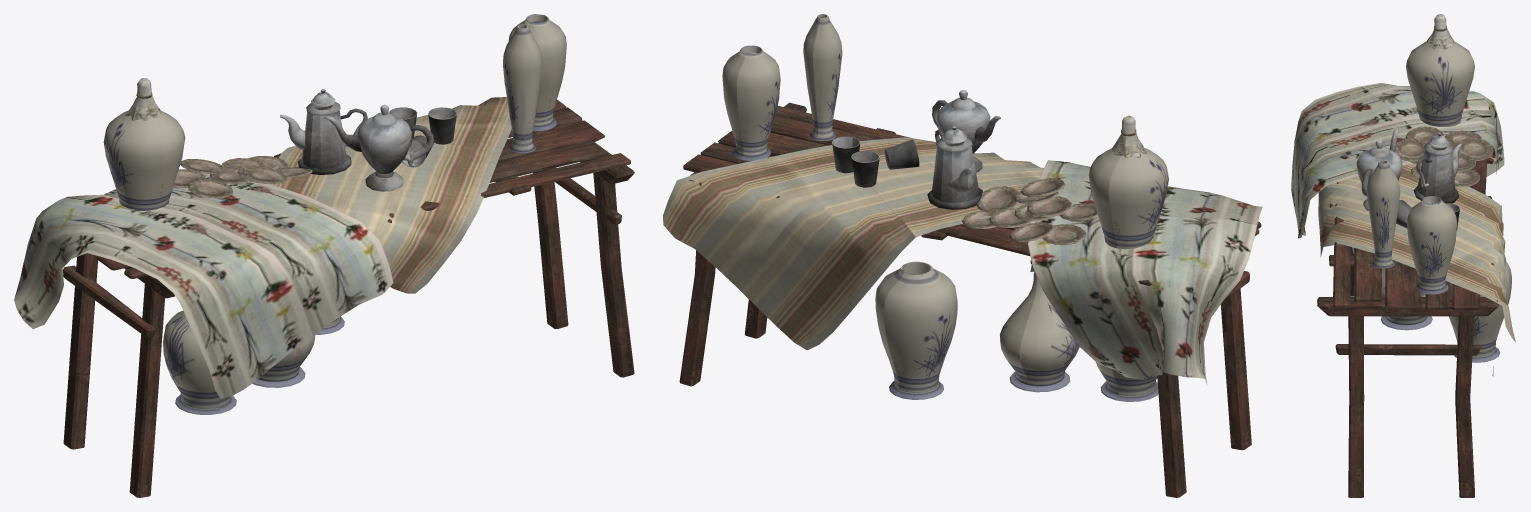
Rendered from TW2_9_ADDONS_04_3-transformed.glb.
3 renders of one model, left to right at view 1: azimuth 30°, elevation 25°; view 2: azimuth 150°, elevation 25°; view 3: azimuth 270°, elevation 25°, orthographic. The views are drawn at different scales.
Parts seen in each view (by area): view 1: default; view 2: default; view 3: default.
Boxes of the visible parts, box(x1,y1,x2,y2) form: default: box(14, 14, 634, 497); default: box(663, 14, 1262, 497); default: box(1291, 14, 1515, 497).
Size of the model in its own units: 3.21 by 2.06 by 1.38.
Materials: 1 (1 with a texture image).
